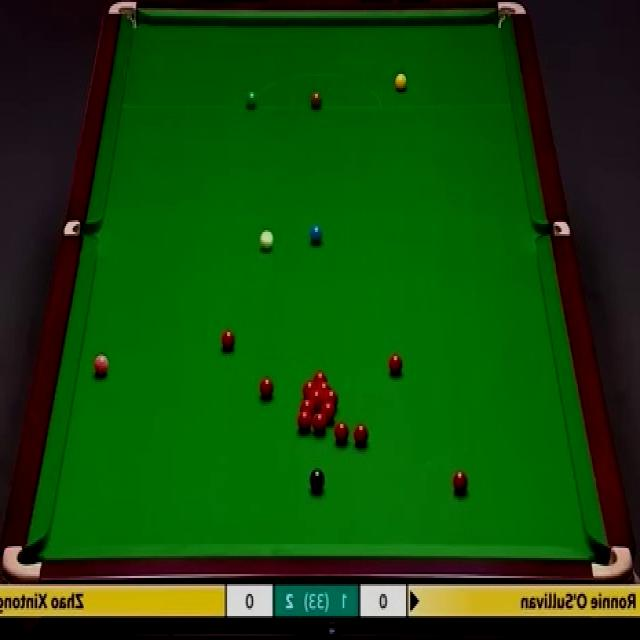black-ball: (309, 467, 325, 493)
blue-ball: (310, 224, 323, 242)
brown-ball: (310, 92, 323, 109)
green-ball: (244, 88, 258, 112)
pink-ball: (93, 353, 110, 377)
red-ball: (259, 376, 275, 402), (452, 469, 468, 495), (388, 353, 402, 378), (354, 421, 368, 446), (336, 422, 350, 447), (311, 412, 326, 433), (308, 389, 322, 411), (322, 400, 335, 423), (222, 329, 235, 352), (298, 412, 312, 432), (323, 390, 339, 407), (303, 380, 317, 399), (299, 400, 314, 416), (316, 380, 332, 392), (312, 369, 327, 381)
white-ball: (259, 228, 274, 252)
yellow-ball: (393, 72, 408, 92)
